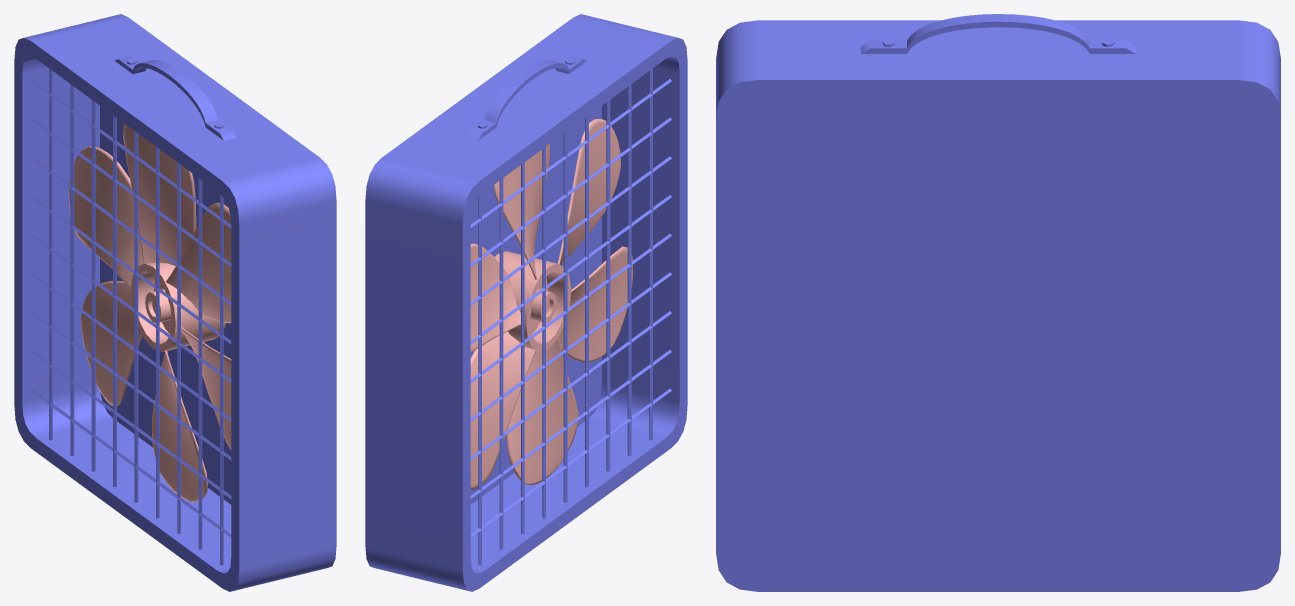
The model's file is fan_med.fbx.
The picture shows the model from 3 angles, left to right: view 1: azimuth 30°, elevation 25°; view 2: azimuth 150°, elevation 25°; view 3: azimuth 270°, elevation 25°; orthographic projection. The views are drawn at different scales.
Visible parts, largest first — view 1: fan_low002; view 2: fan_low002; view 3: fan_low002.
Part boxes in pixels (x1,y1,x2,y2): fan_low002: [14, 14, 336, 591]; fan_low002: [365, 14, 687, 591]; fan_low002: [716, 14, 1280, 591].
Bounding box in the file's own units: 25 × 106 × 100.
